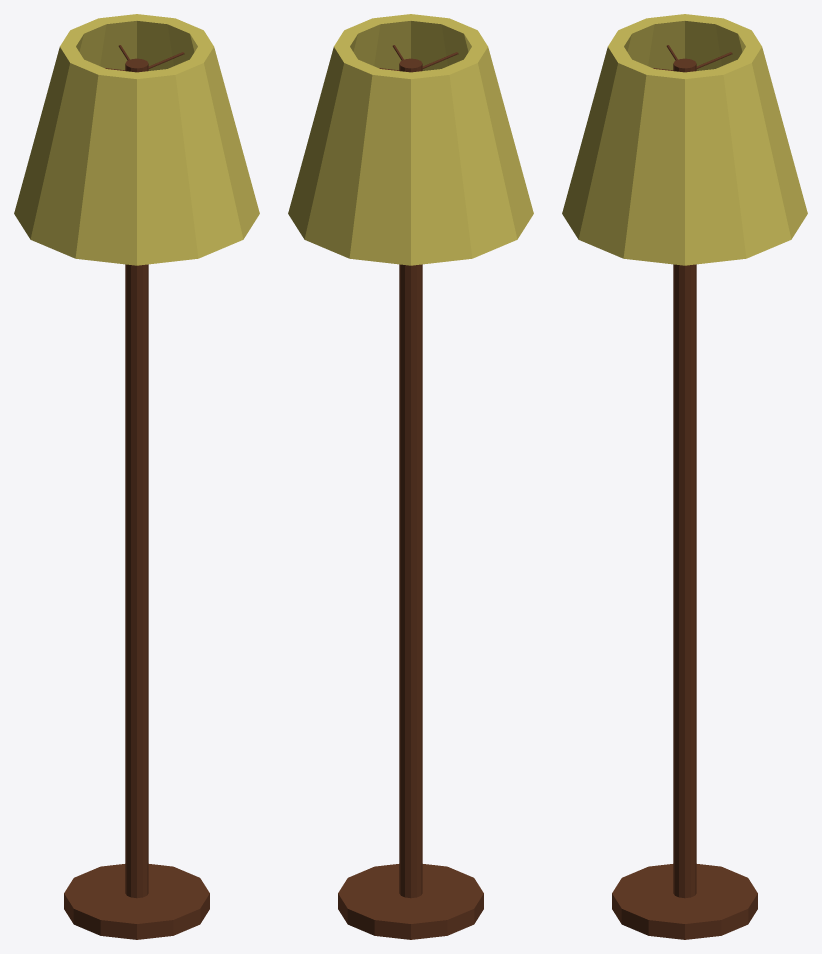
Rendered from StaLamp .fbx.
The picture shows the model from 3 angles, left to right: view 1: azimuth 30°, elevation 25°; view 2: azimuth 150°, elevation 25°; view 3: azimuth 270°, elevation 25°; orthographic projection.
Visible parts, largest first — view 1: lamp; view 2: lamp; view 3: lamp.
Boxes of the visible parts, x1,y1,x2,y2 form: lamp: [14, 14, 259, 939]; lamp: [288, 14, 533, 939]; lamp: [562, 14, 807, 939].
Bounding box in the file's own units: 0.4213 × 1.63 × 0.4213.
